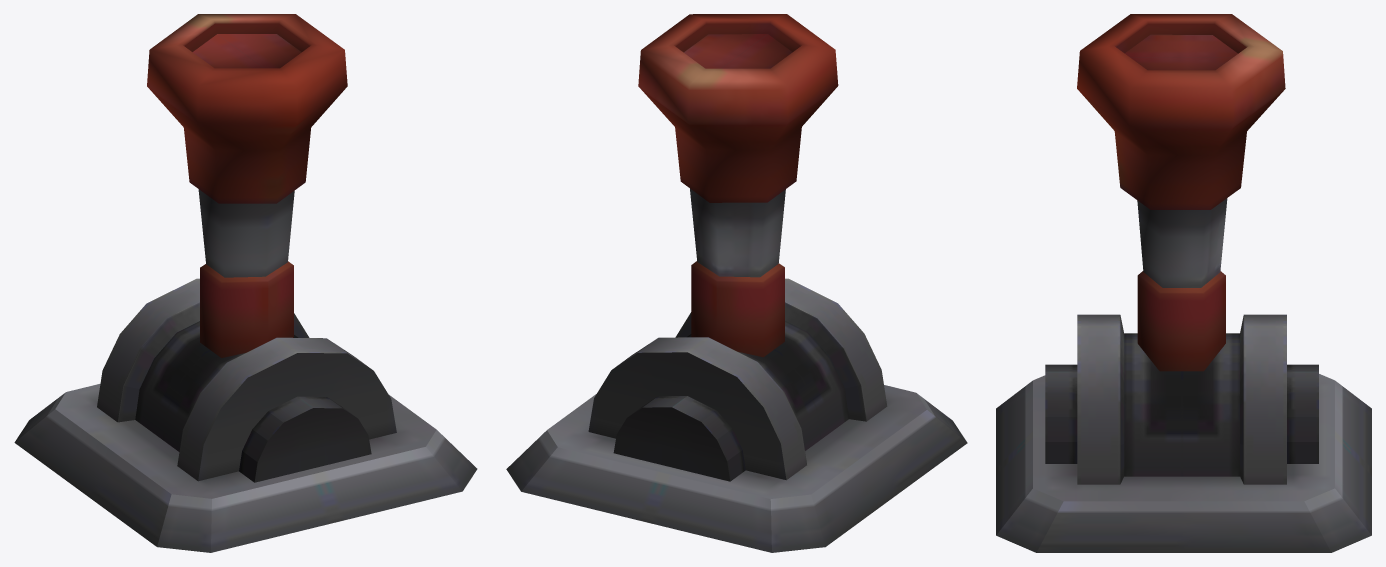
The model's file is [GIMMICK]control_lever.fbx.
3 views of the same model, side by side, from view 1: azimuth 30°, elevation 25°; view 2: azimuth 150°, elevation 25°; view 3: azimuth 270°, elevation 25° (orthographic). The views are drawn at different scales.
Parts seen in each view (by area): view 1: [GIMMICK]control_lever, lever; view 2: [GIMMICK]control_lever, lever; view 3: [GIMMICK]control_lever, lever.
Part boxes in pixels (x1,y1,x2,y2): [GIMMICK]control_lever: (14, 278, 477, 552); lever: (147, 14, 347, 357); [GIMMICK]control_lever: (506, 278, 967, 552); lever: (638, 14, 838, 357); [GIMMICK]control_lever: (996, 314, 1371, 552); lever: (1077, 14, 1285, 371).
Size of the model in its own units: 0.9726 by 1.19 by 0.9541.
Materials: 1 (1 with a texture image).
